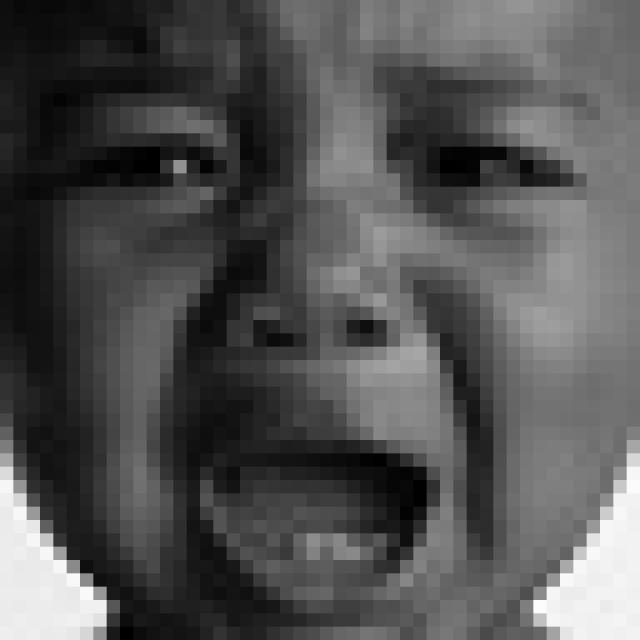sad: (28, 14, 604, 640)
